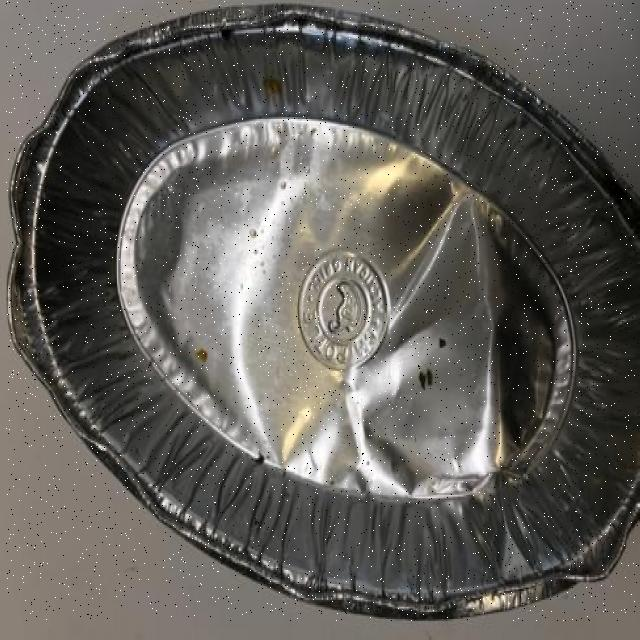metal: (6, 0, 639, 621)
